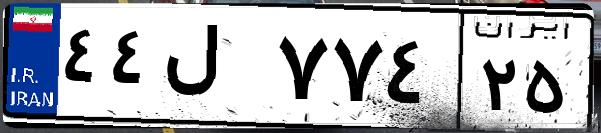2: (475, 38, 525, 113)
4: (385, 28, 445, 110), (57, 26, 110, 100), (110, 28, 158, 98)
5: (525, 38, 570, 115)
7: (270, 28, 330, 110), (330, 28, 385, 110)
ل: (158, 20, 270, 120)
